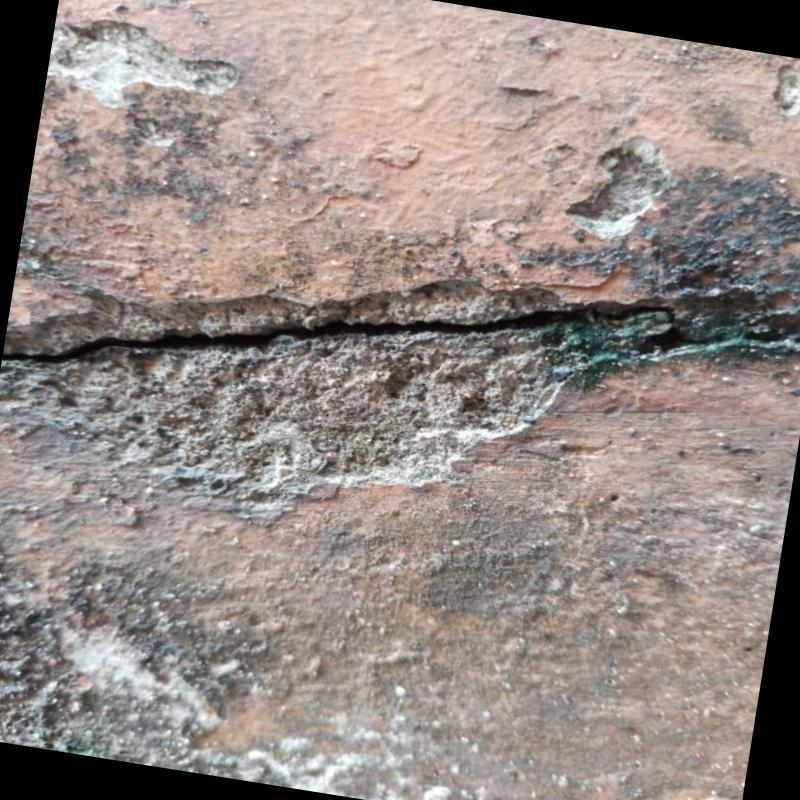pothole: (6, 306, 696, 362)
